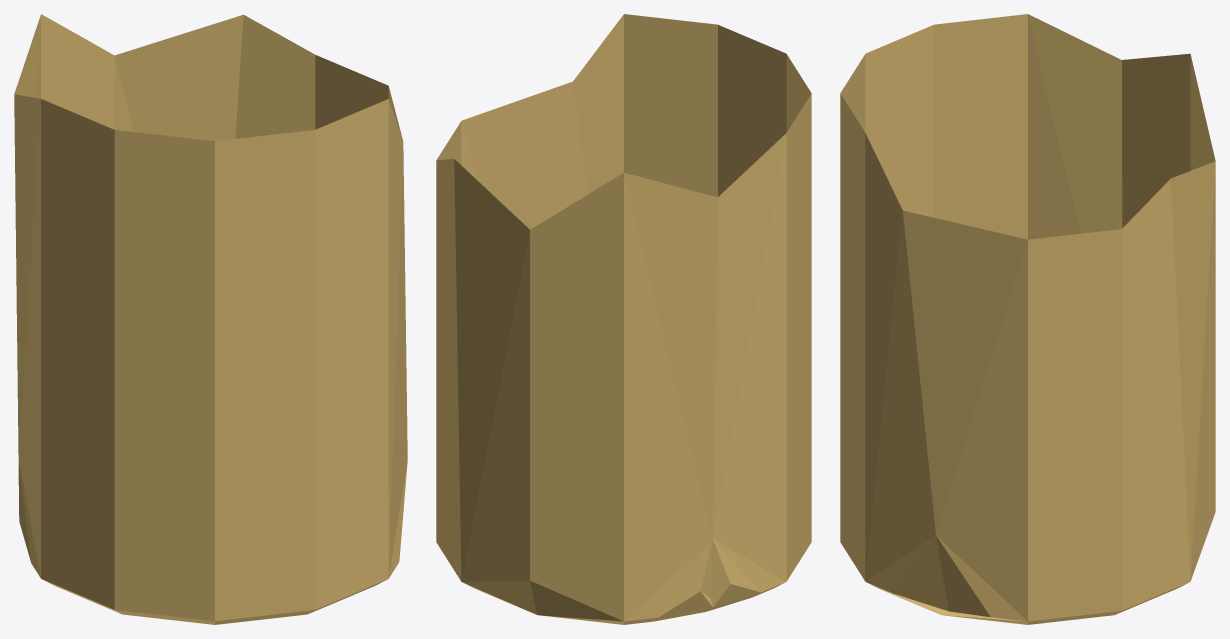
The model's file is cup2.fbx.
3 views of the same model, side by side, from view 1: azimuth 30°, elevation 25°; view 2: azimuth 150°, elevation 25°; view 3: azimuth 270°, elevation 25° (orthographic). The views are drawn at different scales.
Visible parts, largest first — view 1: Cylinder.001; view 2: Cylinder.001; view 3: Cylinder.001.
Boxes of the visible parts, left/top/right/bottom form: Cylinder.001: left=14, top=14, right=407, bottom=624; Cylinder.001: left=436, top=14, right=811, bottom=624; Cylinder.001: left=840, top=14, right=1215, bottom=624.
Bounding box in the file's own units: 27.72 × 37.36 × 27.72.
